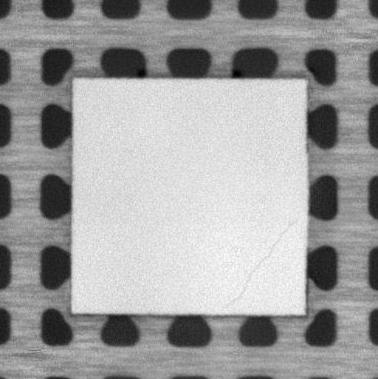DIE_CRACK: (226, 219, 300, 305)
